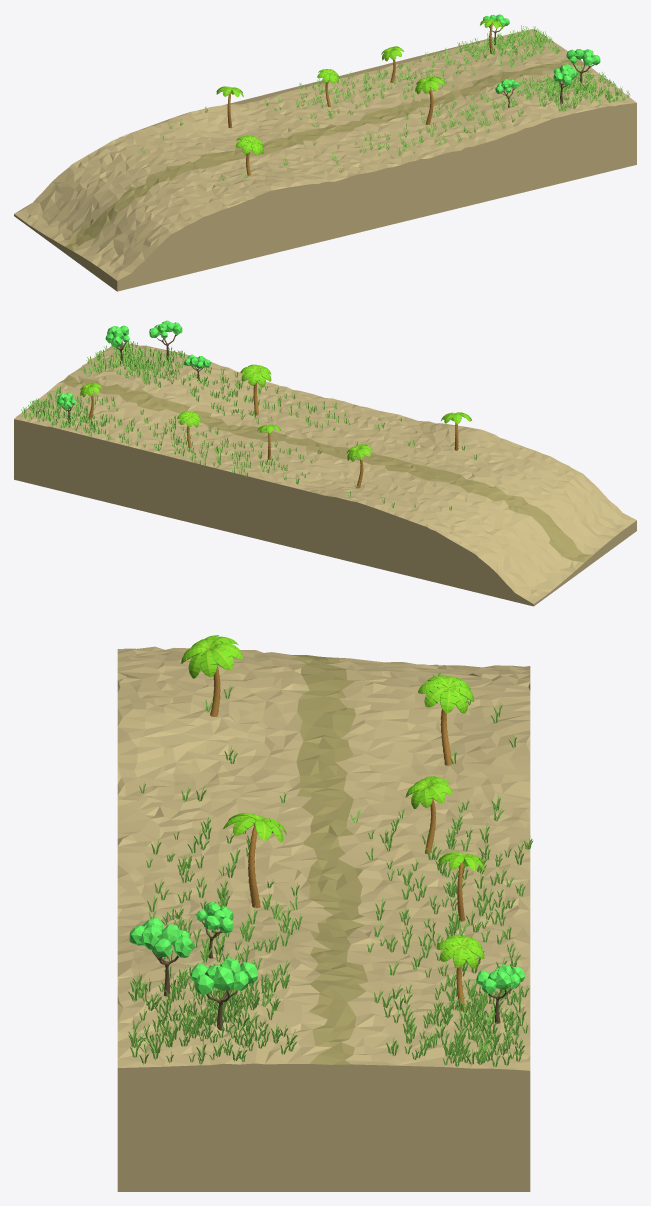
Rendered from environment_tutorial.fbx.
The picture shows the model from 3 angles, top to bottom: view 1: azimuth 30°, elevation 25°; view 2: azimuth 150°, elevation 25°; view 3: azimuth 270°, elevation 25°; orthographic projection. The views are drawn at different scales.
Parts seen in each view (by area): view 1: Cube.001, Sphere.009, Plane.006, Sphere.008, Plane.008; view 2: Cube.001, Sphere.008, Plane.008, Plane.006, Sphere.012; view 3: Cube.001, Sphere.009, Plane.006, Plane.008, Sphere.012, Sphere.008, Sphere.003, Sphere.013, Plane.009, Plane.011, Sphere.011.
Part boxes in pixels (x1,y1,x2,y2): Cube.001: (14,29,636,291); Sphere.009: (235,135,264,175); Plane.006: (566,49,600,85); Sphere.008: (415,76,444,124); Plane.008: (553,64,577,103); Cube.001: (14,343,636,606); Sphere.008: (240,364,271,415); Plane.008: (149,320,182,360); Plane.006: (105,325,129,363); Sphere.012: (346,444,372,488); Cube.001: (117,646,530,1191); Sphere.009: (180,635,242,716); Plane.006: (190,957,257,1030); Plane.008: (129,917,195,996); Sphere.012: (418,676,474,765); Sphere.008: (223,813,286,908); Sphere.003: (436,935,484,1010); Sphere.013: (405,776,452,854); Plane.009: (476,964,525,1023); Plane.011: (195,902,233,958); Sphere.011: (438,852,484,921).
Bounding box in the file's own units: 7444 × 1423 × 2573.
